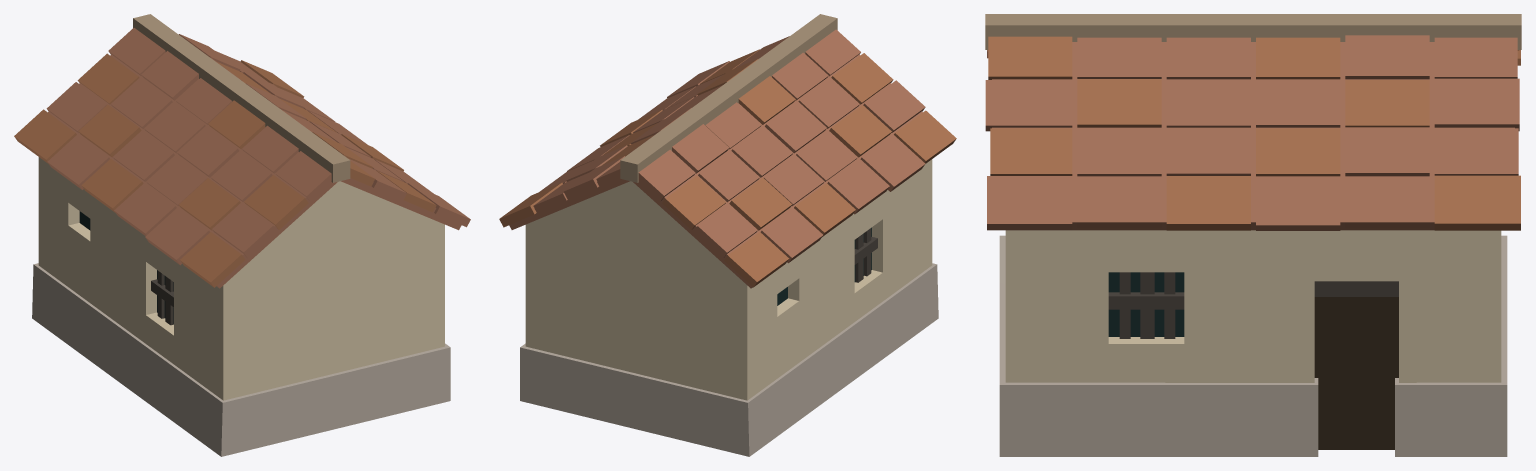
Rendered from Building_mode_L2_Northhouse003.fbx.
3 renders of one model, left to right at view 1: azimuth 30°, elevation 25°; view 2: azimuth 150°, elevation 25°; view 3: azimuth 270°, elevation 25°, orthographic. The views are drawn at different scales.
Parts seen in each view (by area): view 1: Building_mode_L2_Northhouse003; view 2: Building_mode_L2_Northhouse003; view 3: Building_mode_L2_Northhouse003.
Part boxes in pixels (<box>): Building_mode_L2_Northhouse003: <box>14,14,470,456</box>; Building_mode_L2_Northhouse003: <box>499,14,956,456</box>; Building_mode_L2_Northhouse003: <box>985,14,1521,456</box>.
Size of the model in its own units: 2.86 by 2.83 by 3.79.
